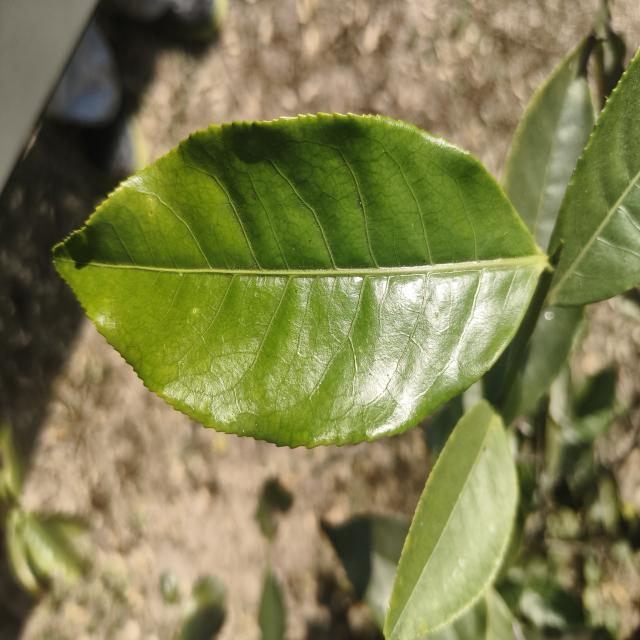Leaf: (54, 115, 546, 446), (383, 401, 518, 640), (550, 49, 640, 305), (502, 36, 595, 253), (482, 306, 585, 422), (321, 516, 410, 631), (423, 587, 512, 640), (573, 369, 616, 440), (258, 568, 286, 640)
